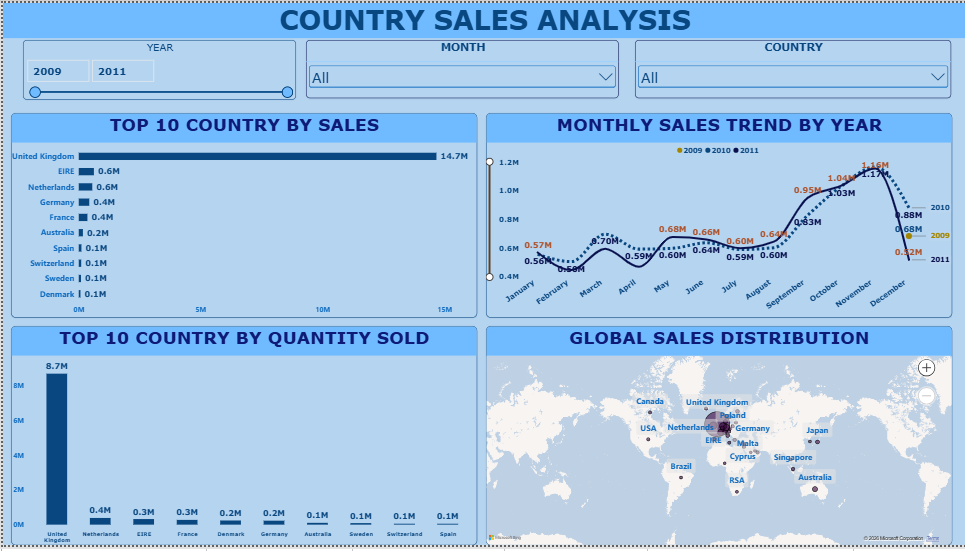

What the dashboard file says about the page in this screenshot:
{"tool":"powerbi","page":{"name":"Region/Country Sales Analysis","canvas":[1920,1080],"ordinal":4},"visuals":[{"type":"textbox","box":[0,0,1920.7,70.2],"z":0},{"type":"clusteredBarChart","title":"TOP 10 COUNTRY BY SALES","fields":{"Category":["CLEANED.Country"],"Y":["Sum(CLEANED.TOTAL SALES)"]},"box":[15.4,219.5,928.5,408.3],"z":1000},{"type":"lineChart","title":"MONTHLY SALES TREND BY YEAR","fields":{"Category":["CLEANED.DATE.Variation.Date Hierarchy.Month"],"Series":["CLEANED.YEAR"],"Y":["Sum(CLEANED.TOTAL SALES)"]},"box":[961.5,219.5,928.5,408.3],"z":2000},{"type":"clusteredColumnChart","title":"TOP 10 COUNTRY BY QUANTITY SOLD","fields":{"Category":["CLEANED.Country"],"Y":["CLEANED.Total Quantity"]},"box":[15.4,643.2,928.5,436.8],"z":3000},{"type":"map","title":"GLOBAL SALES DISTRIBUTION","fields":{"Category":["CLEANED.Country"],"Size":["Sum(CLEANED.TOTAL SALES)"]},"box":[961.5,643.2,928.5,436.8],"z":4000},{"type":"slicer","title":"YEAR","fields":{"Values":["CLEANED.YEAR"]},"box":[39.5,74.6,544.4,118.5],"z":5000},{"type":"slicer","title":"MONTH","fields":{"Values":["CLEANED.MONTH"]},"box":[603.7,74.6,623.4,116.3],"z":6000},{"type":"slicer","title":"COUNTRY","fields":{"Values":["CLEANED.Country"]},"box":[1260,74.6,630,116.3],"z":7000}]}

Visuals, with their boxes in screenshot pixels (x1, y1, x2, y2), scaled from the page's 1920x1080 canvas onto the 965x551 screenshot:
textbox: bbox=(0, 0, 964, 36)
"TOP 10 COUNTRY BY SALES" clusteredBarChart: bbox=(8, 112, 474, 320)
"MONTHLY SALES TREND BY YEAR" lineChart: bbox=(483, 112, 950, 320)
"TOP 10 COUNTRY BY QUANTITY SOLD" clusteredColumnChart: bbox=(8, 328, 474, 550)
"GLOBAL SALES DISTRIBUTION" map: bbox=(483, 328, 950, 550)
"YEAR" slicer: bbox=(20, 38, 293, 99)
"MONTH" slicer: bbox=(303, 38, 617, 97)
"COUNTRY" slicer: bbox=(633, 38, 950, 97)
